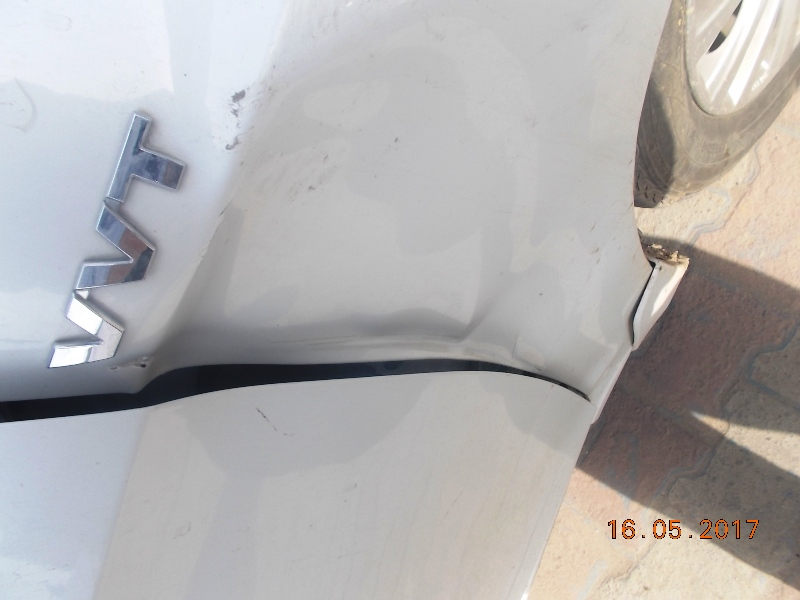Dislocation: (15, 329, 573, 443)
